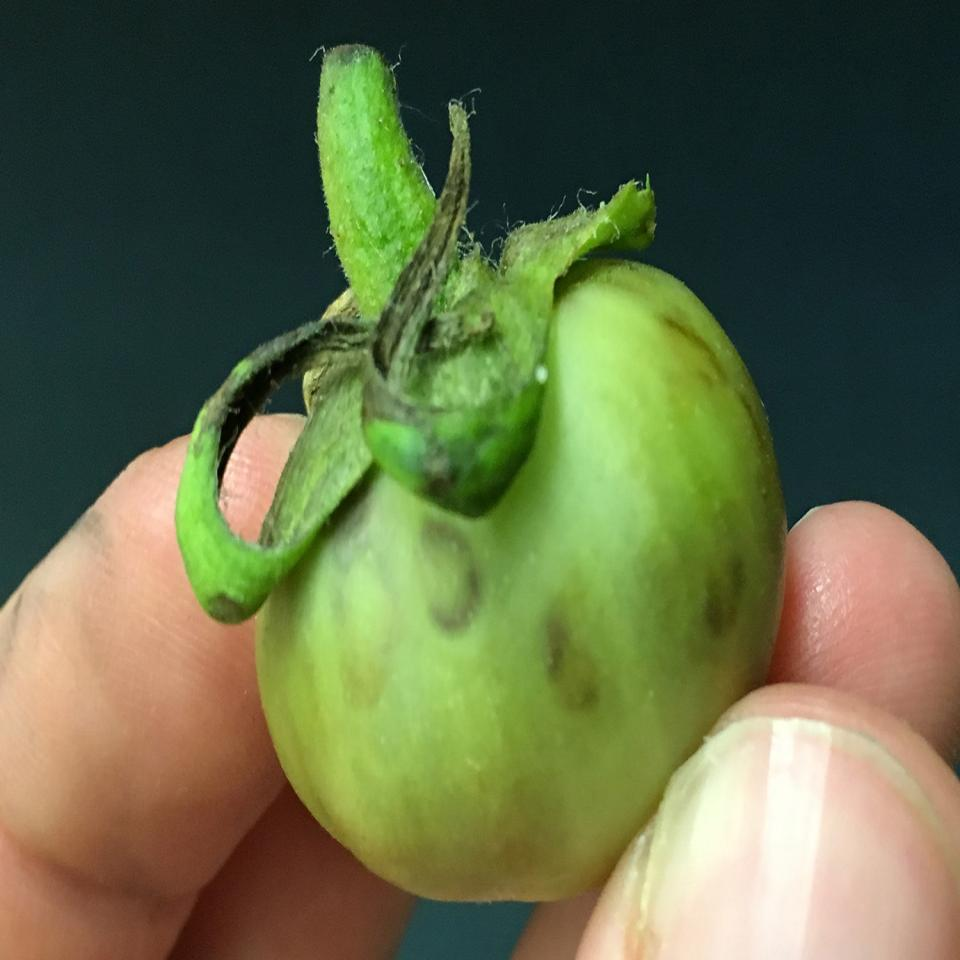Spotted wilt Virus: (252, 257, 787, 907)
